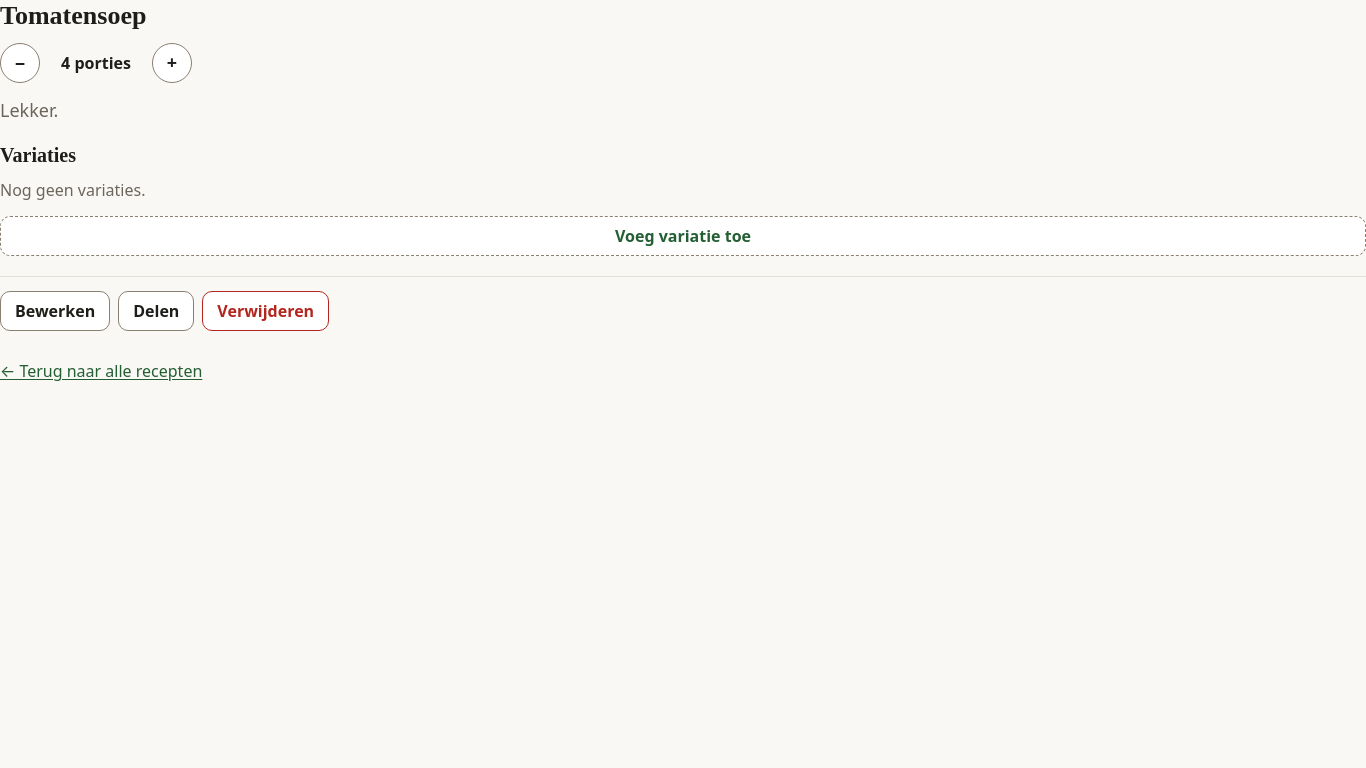
Test: RecipeDetailView › verwijderen aanvragen › vraagt eerst om bevestiging, met een optioneel veld Reden en focus op Annuleren
This screenshot has width=1366, height=768.
Click the button with class "delete": (266, 312) x1=202 y1=292 x2=329 y2=332
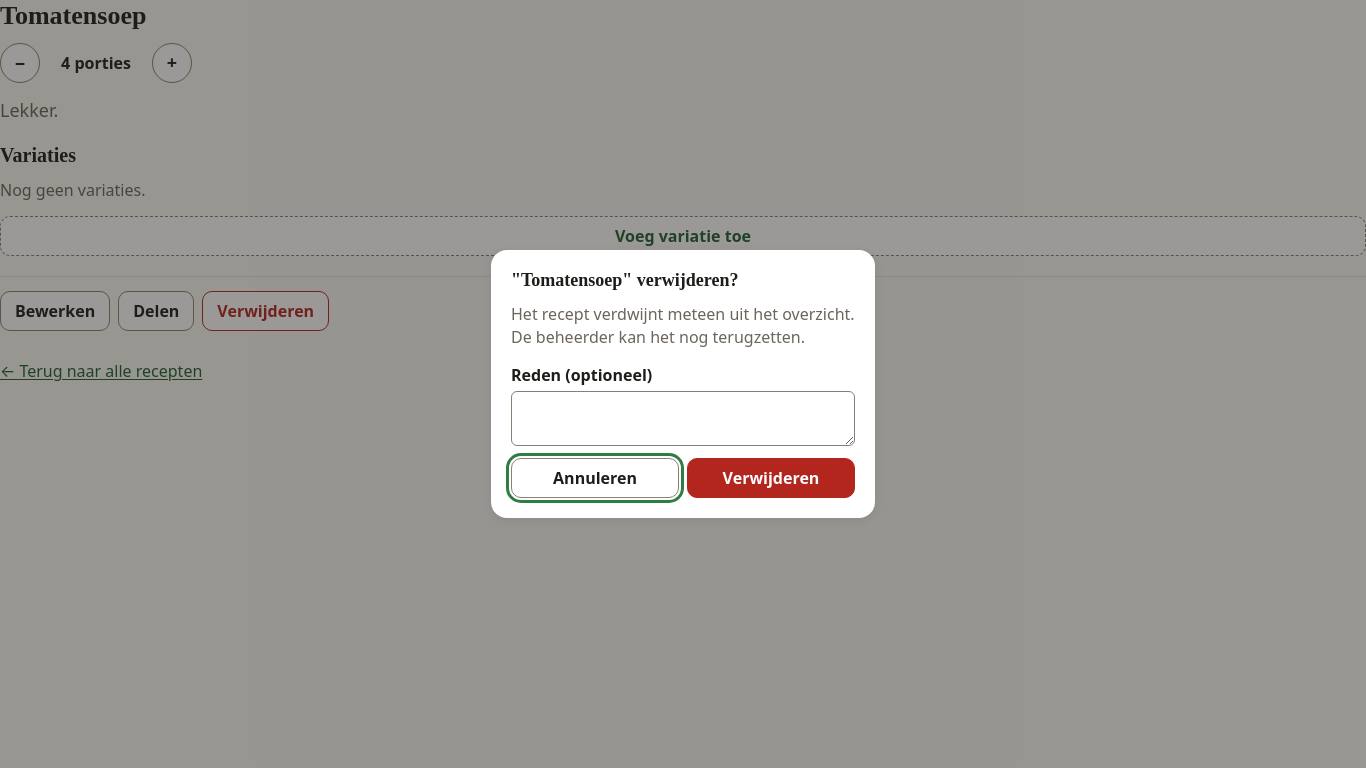
Expected: the heading "\"Tomatensoep\" verwijderen?" reads "\"Tomatensoep\" verwijderen?", x1=511 y1=270 x2=738 y2=290
Expected: the label "Reden (optioneel)" is shown, x1=511 y1=364 x2=652 y2=386
